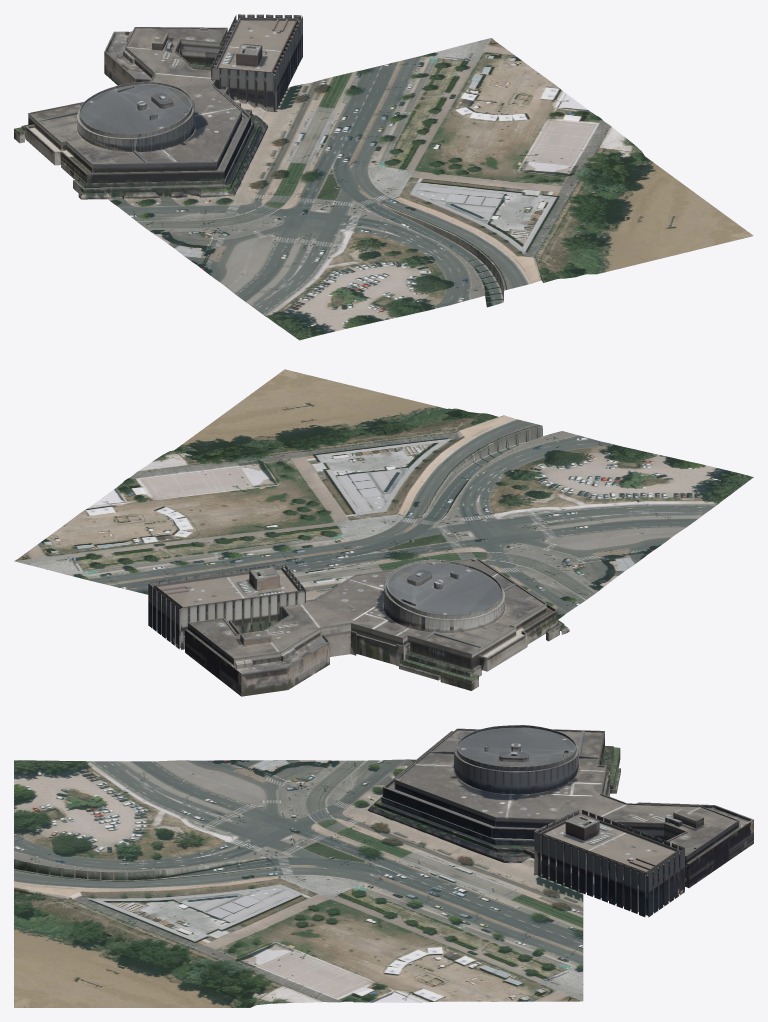
3 renders of one model, top to bottom at view 1: azimuth 30°, elevation 25°; view 2: azimuth 150°, elevation 25°; view 3: azimuth 270°, elevation 25°, orthographic. The views are drawn at different scales.
Parts seen in each view (by area): view 1: mesh (×2); view 2: mesh (×2); view 3: mesh (×2).
Boxes of the visible parts, x1,y1,x2,y2 form: mesh (×2): [14, 14, 753, 340]; mesh (×2): [14, 369, 753, 696]; mesh (×2): [14, 725, 753, 1007].
Bounding box in the file's own units: 209 × 27.42 × 260.
2 materials, 2 textured.
